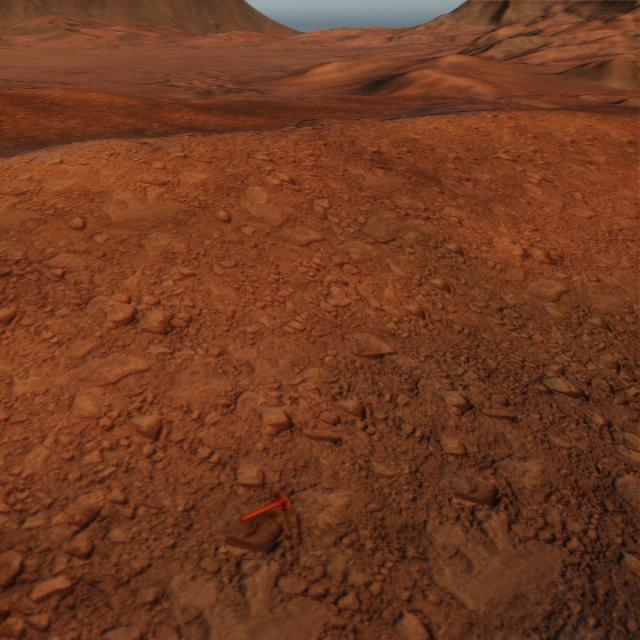newhammer: (240, 492, 290, 522)
